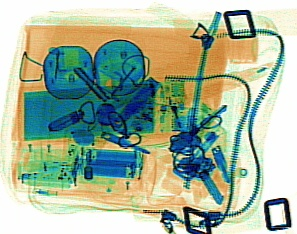lighter: (157, 70, 194, 141)
